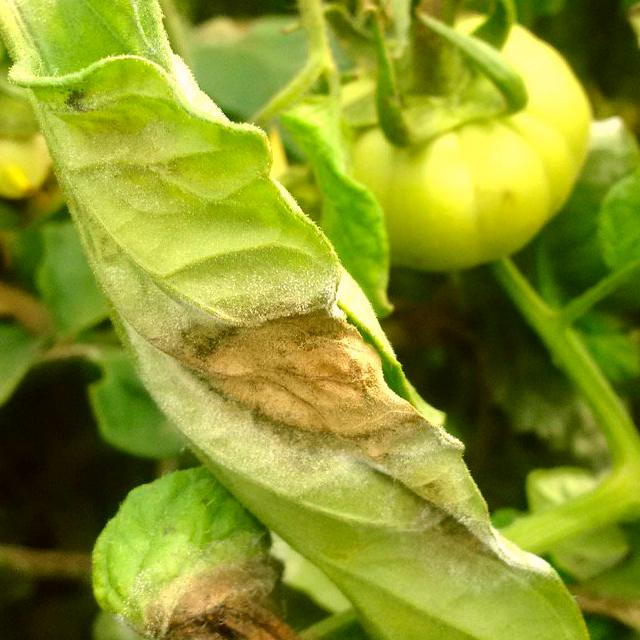Tomato leaf late blight: (0, 0, 632, 640), (76, 465, 398, 640)
